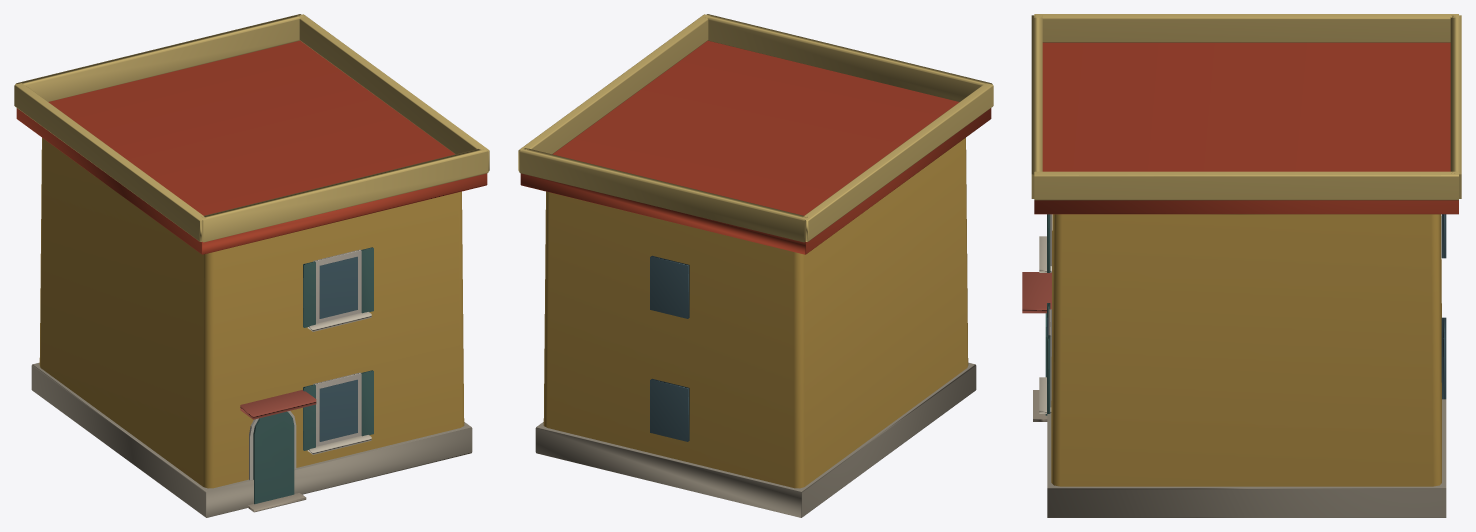
File: house_10.glb
3 renders of one model, left to right at view 1: azimuth 30°, elevation 25°; view 2: azimuth 150°, elevation 25°; view 3: azimuth 270°, elevation 25°, orthographic. The views are drawn at different scales.
Visible parts, largest first — view 1: house_10; view 2: house_10; view 3: house_10.
Part boxes in pixels (x1,y1,x2,y2): house_10: (14,14,489,517); house_10: (518,14,993,517); house_10: (1022,14,1461,517).
Size of the model in its own units: 6.91 by 6.99 by 7.91.
